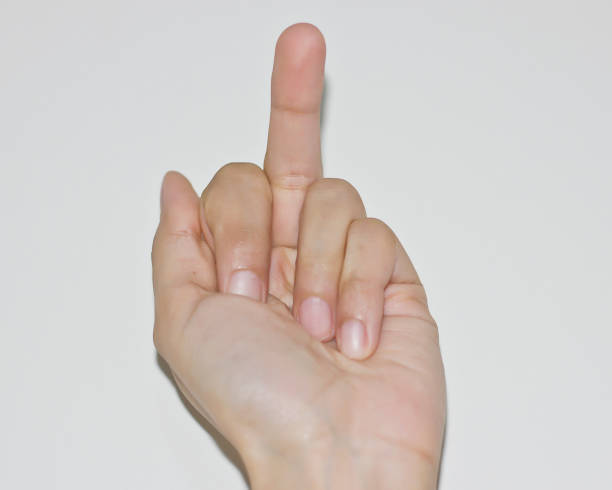insulting_gesture: (146, 19, 447, 490)
